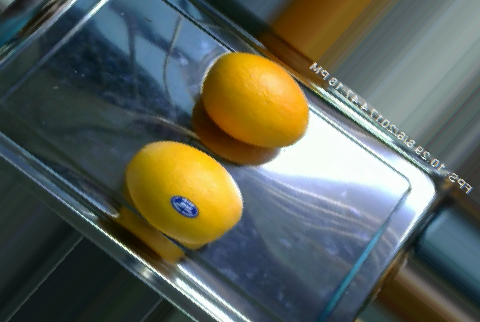Orange: (126, 140, 243, 247), (201, 52, 309, 149)
